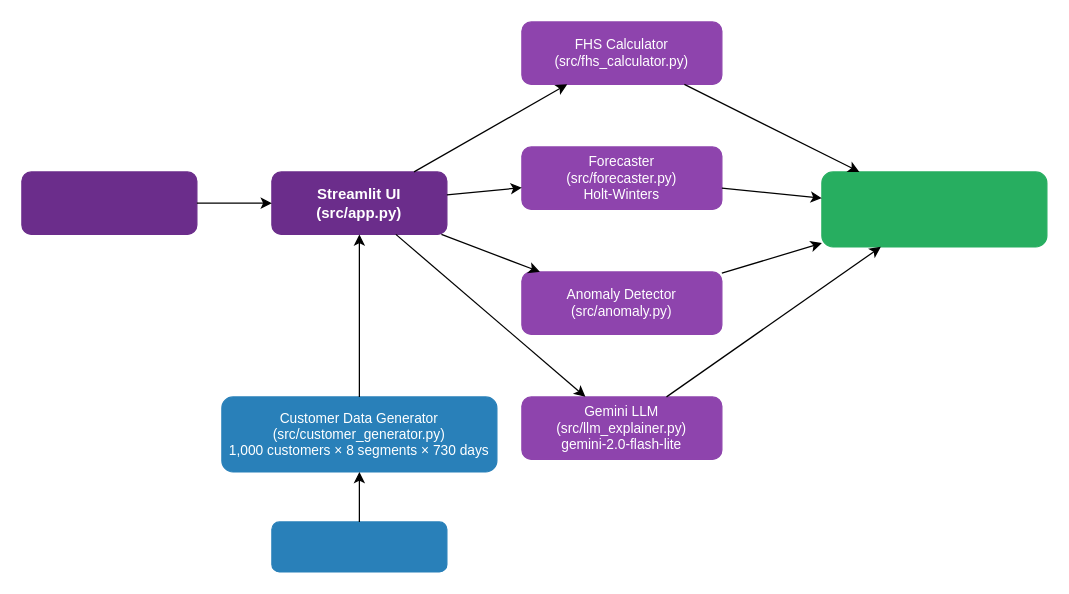
This 1069x594 diagram has some shape labels left out. The centre of each missing label's shape, as x and y in pixels:
"Dashboard Output Risk Heatmap + Forecast + Alerts + AI Recommendations" belongs at (x=934, y=209).
"data/historical.csv" belongs at (x=359, y=546).
"User Browser" belongs at (x=109, y=202).
